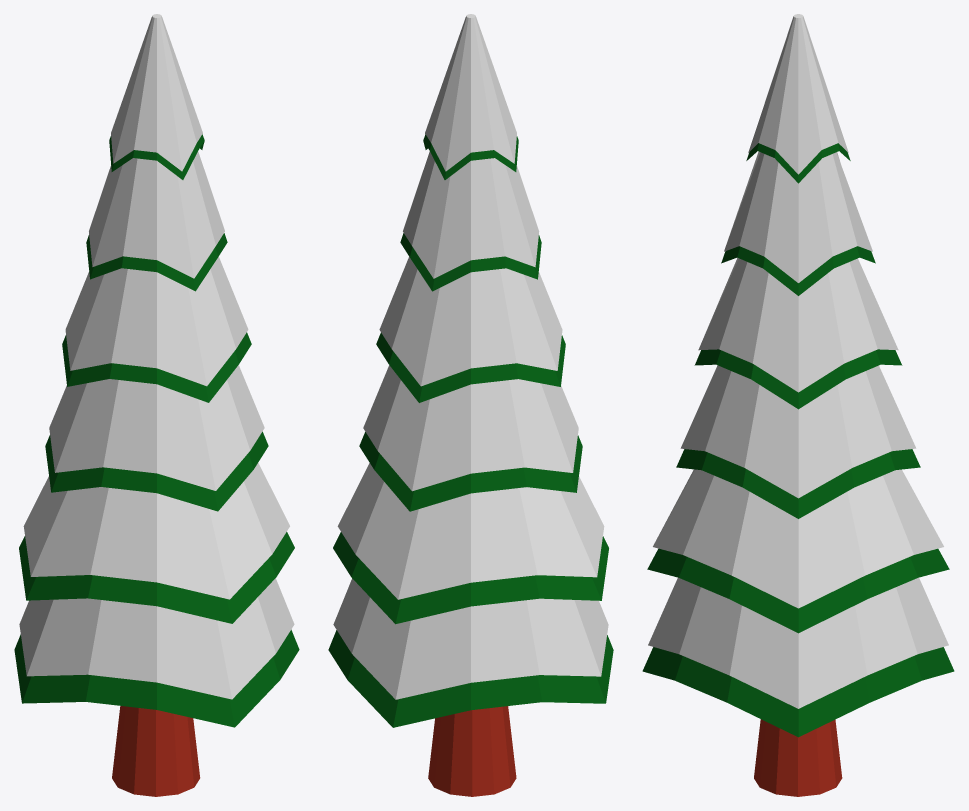
The model's file is Tree_snow1.fbx.
3 views of the same model, side by side, from view 1: azimuth 30°, elevation 25°; view 2: azimuth 150°, elevation 25°; view 3: azimuth 270°, elevation 25° (orthographic).
Parts seen in each view (by area): view 1: Cylinder.009; view 2: Cylinder.009; view 3: Cylinder.009.
Boxes of the visible parts, x1,y1,x2,y2 form: Cylinder.009: (14, 14, 299, 796); Cylinder.009: (328, 14, 613, 796); Cylinder.009: (642, 14, 954, 796).
Size of the model in its own units: 157 by 422 by 157.
